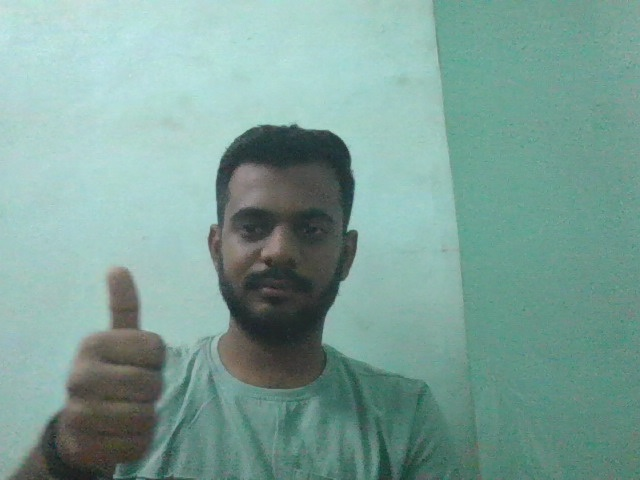yes: (60, 258, 181, 467)
